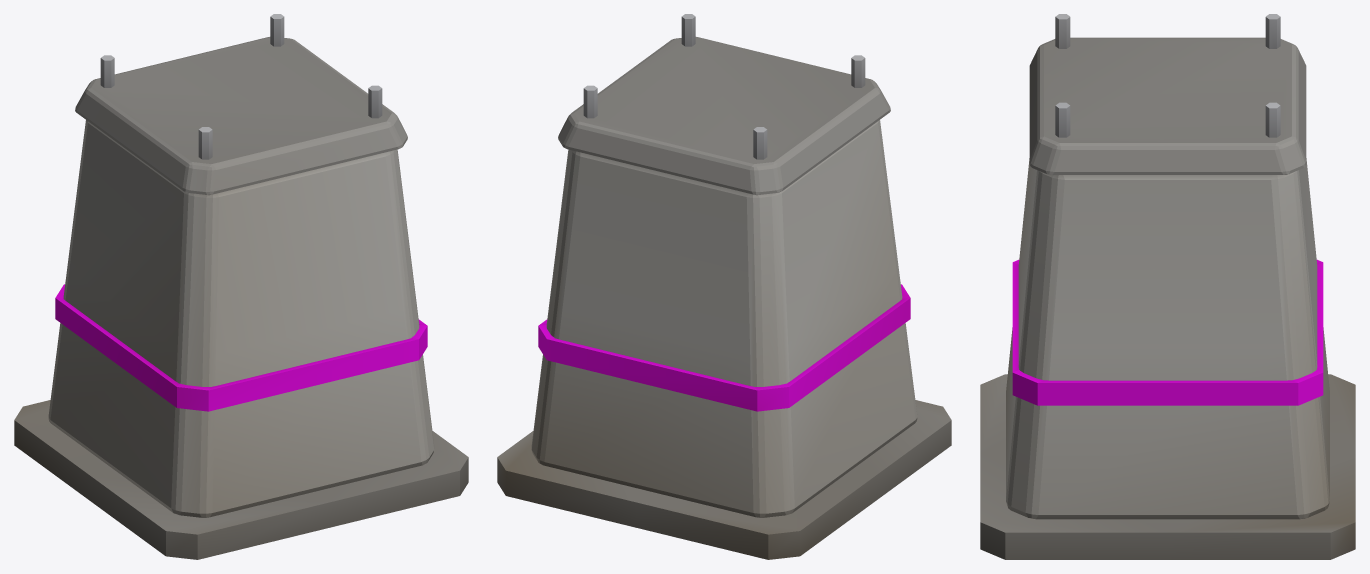
Rendered from wall.glb.
The picture shows the model from 3 angles, left to right: view 1: azimuth 30°, elevation 25°; view 2: azimuth 150°, elevation 25°; view 3: azimuth 270°, elevation 25°; orthographic projection. The views are drawn at different scales.
Parts seen in each view (by area): view 1: Body; view 2: Body; view 3: Body.
Part boxes in pixels (left/top/right/bottom): Body: left=14, top=14, right=468, bottom=559; Body: left=497, top=14, right=951, bottom=559; Body: left=980, top=14, right=1355, bottom=559.
Bounding box in the file's own units: 1.5 × 1.85 × 1.5.
Materials: 1 (1 with a texture image).
